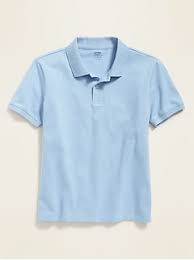C_polo shirt: (7, 38, 184, 227)
